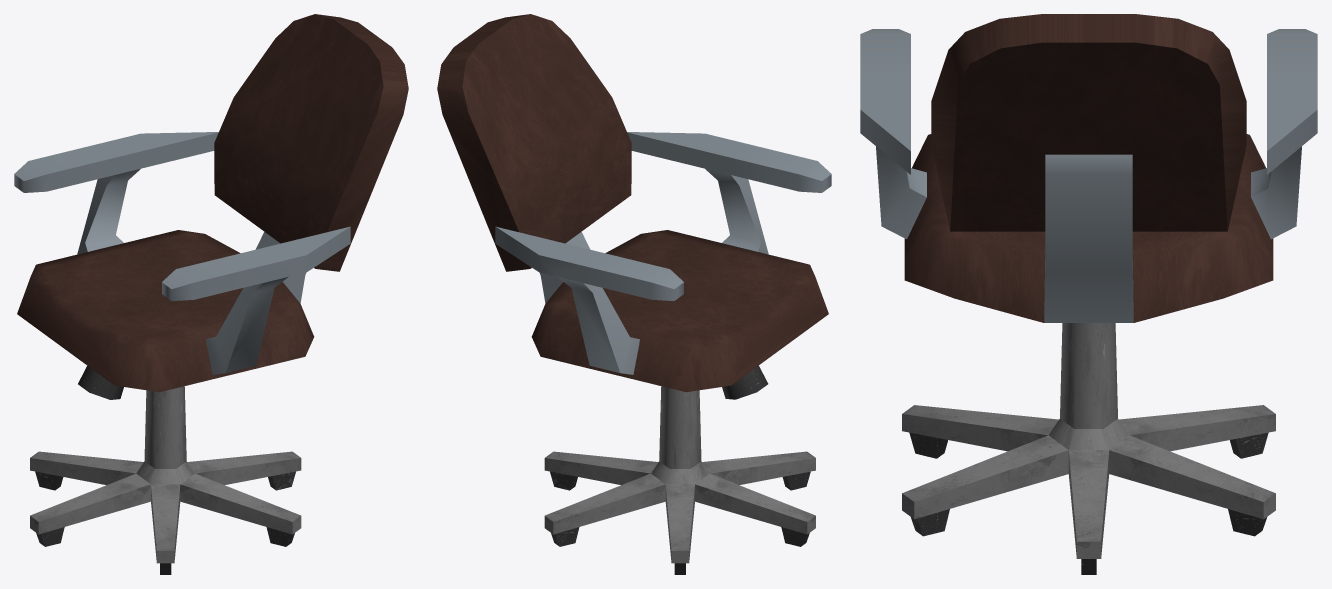
The model's file is ChairOffice.fbx.
The picture shows the model from 3 angles, left to right: view 1: azimuth 30°, elevation 25°; view 2: azimuth 150°, elevation 25°; view 3: azimuth 270°, elevation 25°; orthographic projection. The views are drawn at different scales.
Visible parts, largest first — view 1: ChairOffice; view 2: ChairOffice; view 3: ChairOffice.
Part boxes in pixels (x1=…): ChairOffice: x1=14, y1=14, x2=408, y2=574; ChairOffice: x1=437, y1=14, x2=831, y2=574; ChairOffice: x1=860, y1=14, x2=1317, y2=574.
Size of the model in its own units: 103 by 126 by 86.87.
